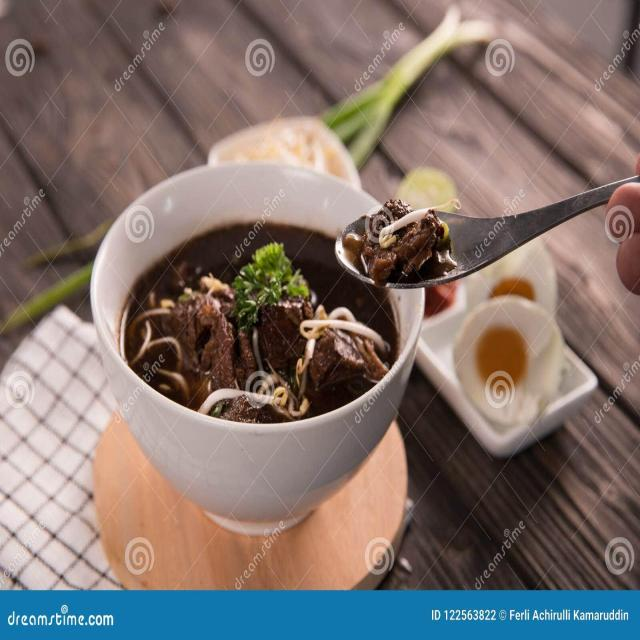Rawon: (114, 200, 403, 438)
